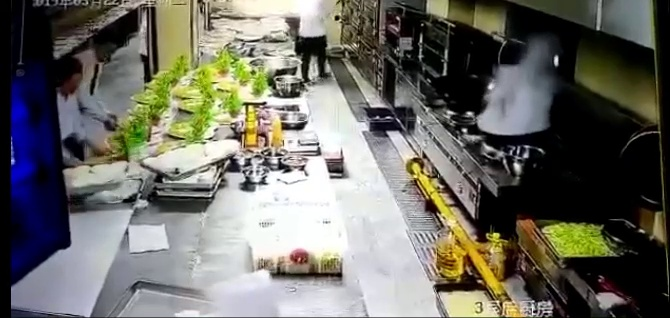smoke: (484, 51, 562, 137)
